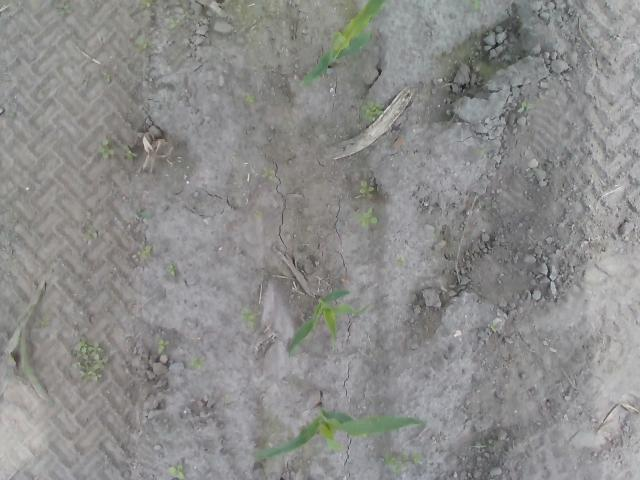Maize: (253, 403, 426, 458), (298, 0, 388, 88), (288, 290, 356, 359)
Weeds: (72, 340, 109, 384), (382, 447, 424, 474), (354, 207, 378, 228), (362, 102, 384, 123), (96, 138, 114, 161), (132, 245, 152, 264), (240, 306, 258, 326), (360, 178, 375, 202), (168, 463, 186, 480), (122, 144, 140, 161), (138, 207, 154, 223), (166, 16, 181, 30), (188, 356, 204, 369), (86, 226, 98, 242), (518, 98, 530, 114), (158, 338, 170, 353), (262, 166, 273, 180), (138, 0, 152, 10), (166, 264, 176, 278), (140, 38, 153, 48), (395, 254, 405, 266), (252, 210, 262, 220), (471, 0, 482, 8), (246, 94, 256, 102)
